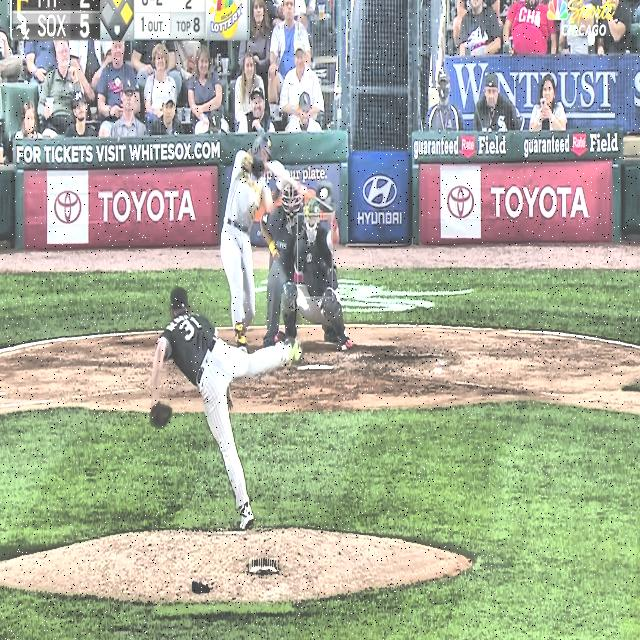baseball: (320, 188, 328, 200)
